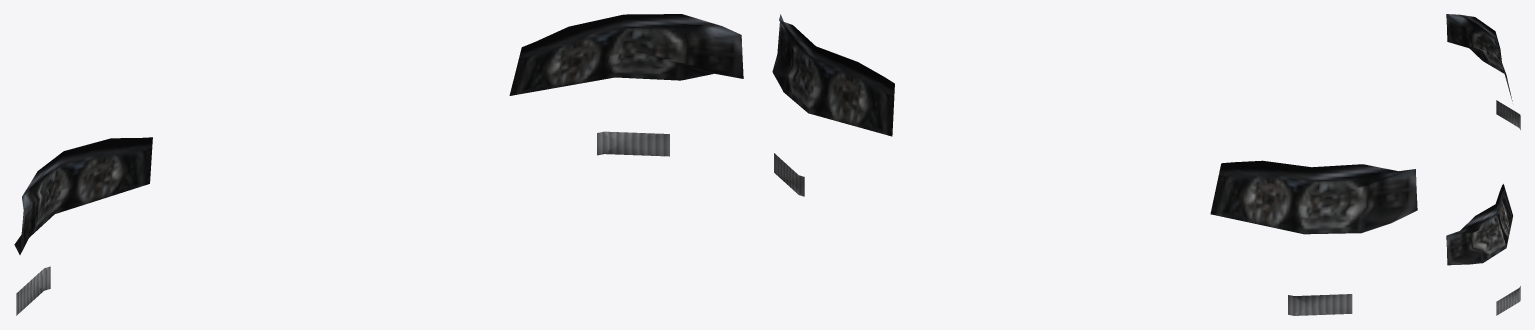
The model's file is gtr_99_lens_head.obj.
The picture shows the model from 3 angles, left to right: view 1: azimuth 30°, elevation 25°; view 2: azimuth 150°, elevation 25°; view 3: azimuth 270°, elevation 25°; orthographic projection. The views are drawn at different scales.
Parts seen in each view (by area): view 1: gtr_99_lens_head; view 2: gtr_99_lens_head; view 3: gtr_99_lens_head.
Boxes of the visible parts, x1,y1,x2,y2 form: gtr_99_lens_head: [14, 14, 743, 315]; gtr_99_lens_head: [772, 14, 1417, 315]; gtr_99_lens_head: [1446, 14, 1520, 315].
Bounding box in the file's own units: 1.55 × 0.3189 × 0.2181.
